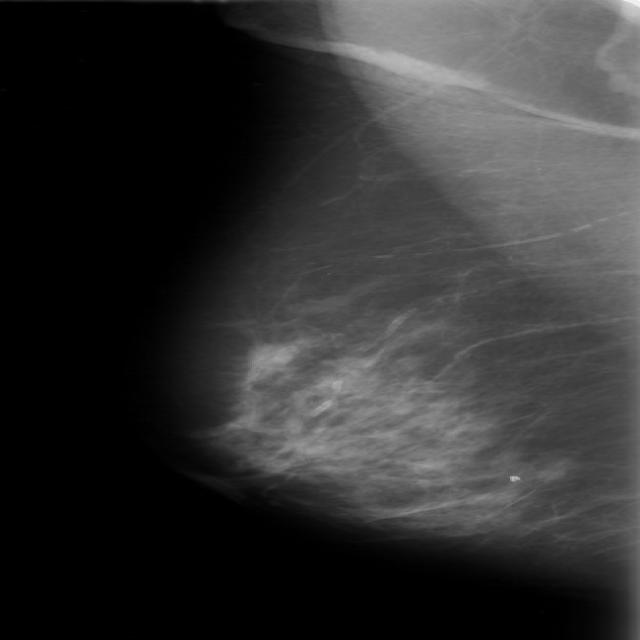tumour: (244, 338, 296, 369)
